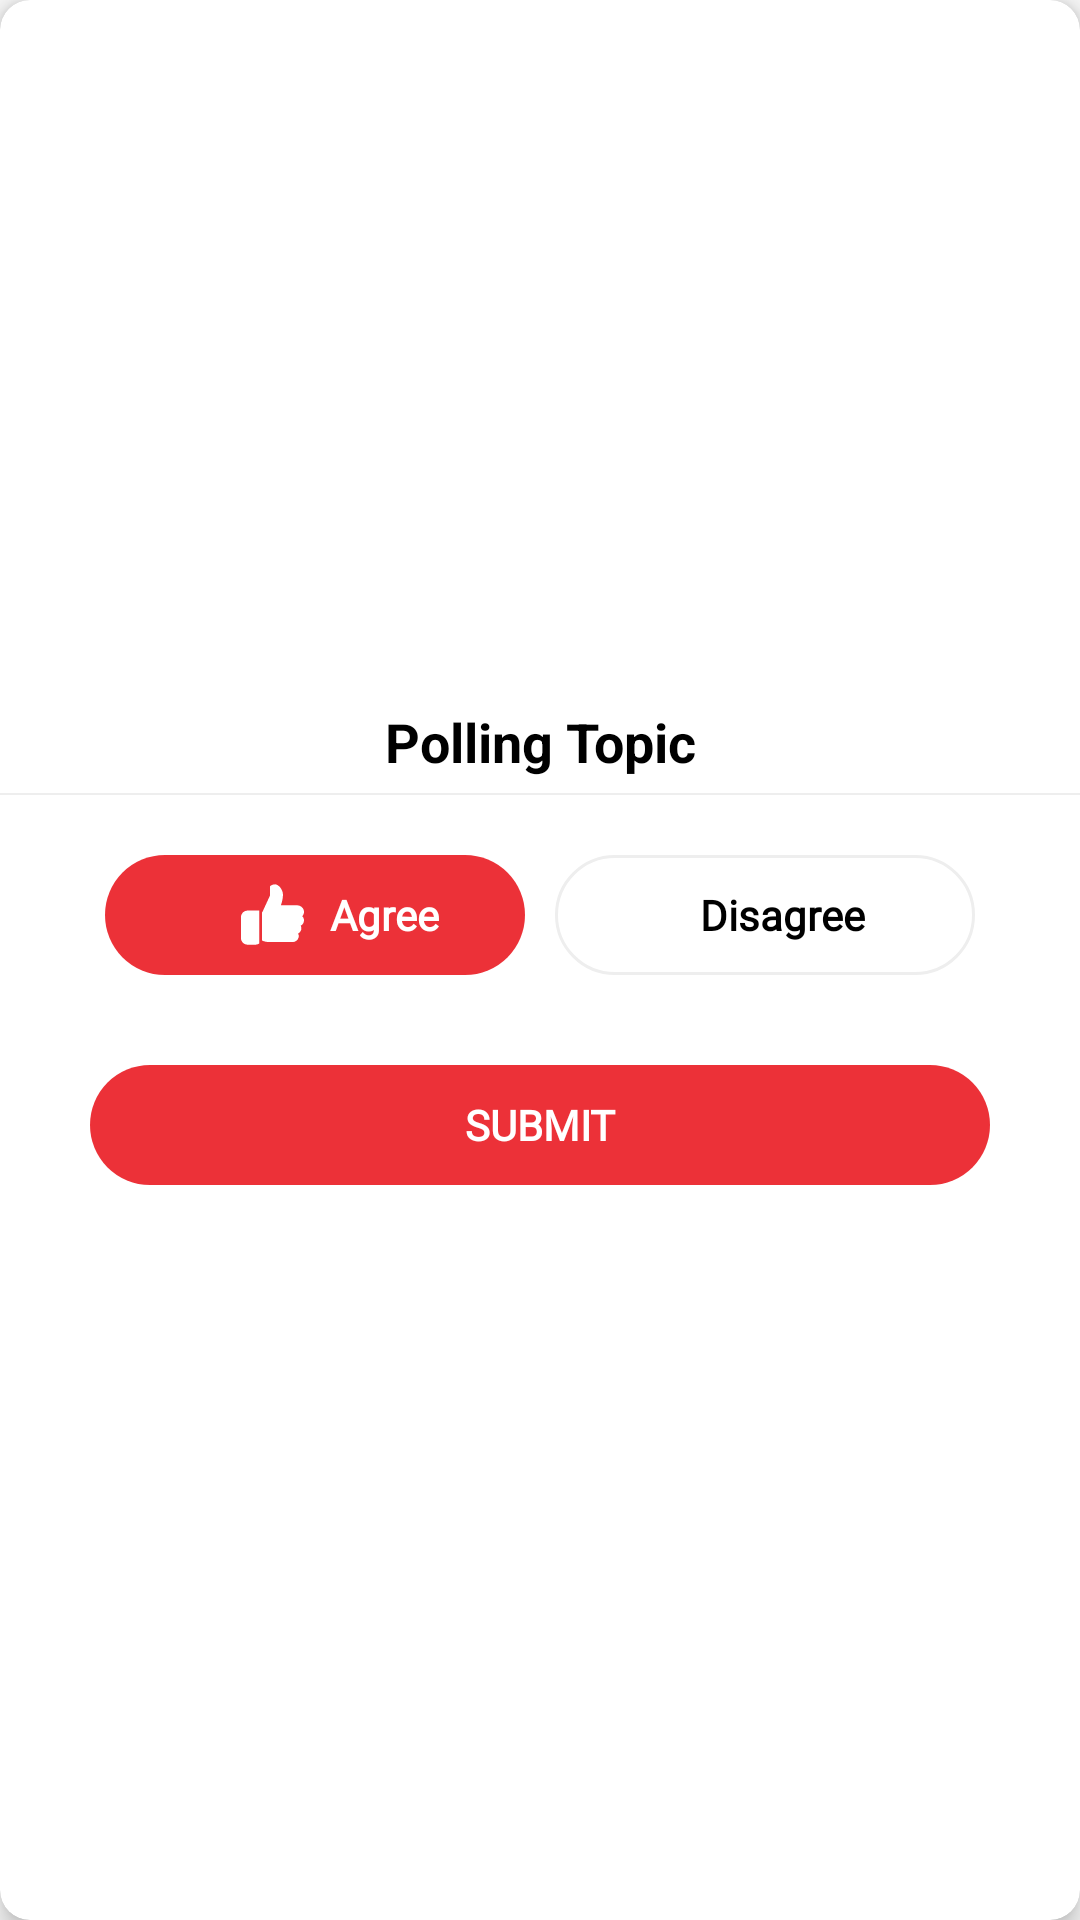

Locate icon controls on the screen. Image size 1080 x 1920, boxes as bbox=(x1, y1, x2, y2).
thumb up: bbox=(241, 884, 304, 945)
